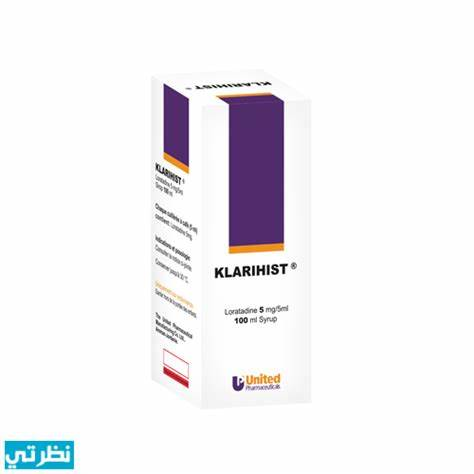Medicine: (150, 70, 306, 405)
